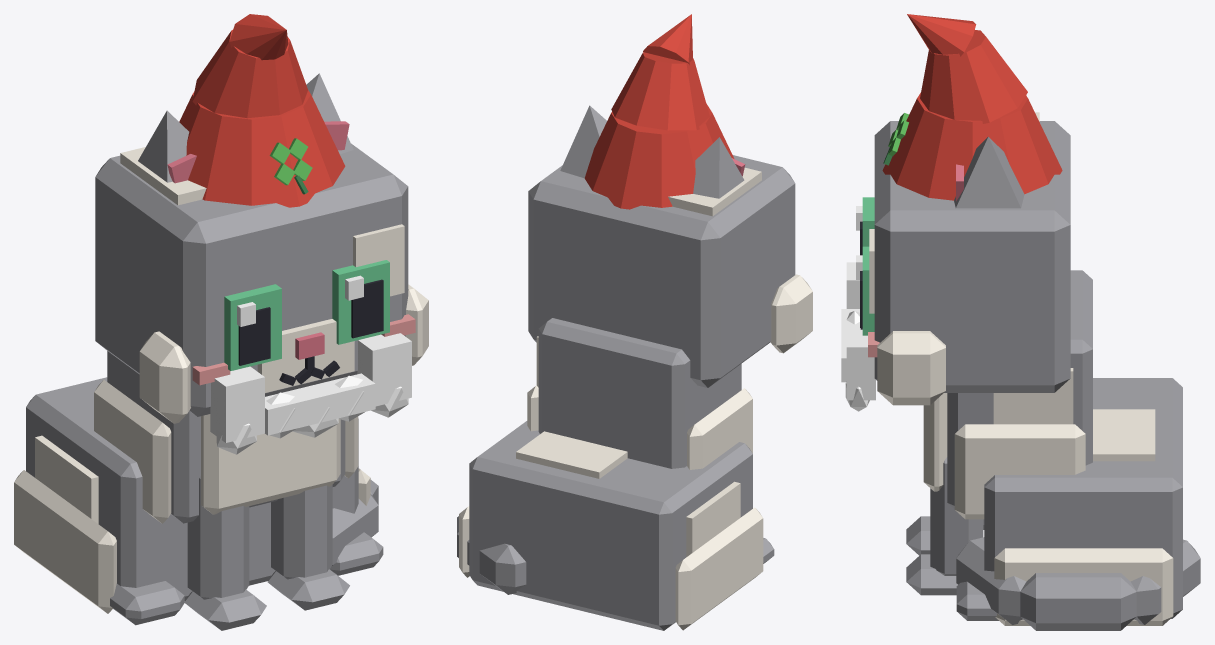
Rendered from CatCafe_Cat_Gnome_Sit.glb.
The picture shows the model from 3 angles, left to right: view 1: azimuth 30°, elevation 25°; view 2: azimuth 150°, elevation 25°; view 3: azimuth 270°, elevation 25°; orthographic projection. The views are drawn at different scales.
Parts seen in each view (by area): view 1: CatCafe_Cat_Gnome_Sit_Head, CatCafe_Cat_Gnome_Sit_Body, CatCafe_Cat_Gnome_Sit_Prop, CatCafe_Cat_Gnome_Sit_Prop2, CatCafe_Cat_Gnome_Sit_LegF2, CatCafe_Cat_Gnome_Sit_LegF1, CatCafe_Cat_Gnome_Sit_Eye2, CatCafe_Cat_Gnome_Sit_Eye1, CatCafe_Cat_Gnome_Sit_EarR, CatCafe_Cat_Gnome_Sit_Tail, CatCafe_Cat_Gnome_Sit_EarL; view 2: CatCafe_Cat_Gnome_Sit_Body, CatCafe_Cat_Gnome_Sit_Head, CatCafe_Cat_Gnome_Sit_Prop, CatCafe_Cat_Gnome_Sit_EarR, CatCafe_Cat_Gnome_Sit_Tail, CatCafe_Cat_Gnome_Sit_EarL; view 3: CatCafe_Cat_Gnome_Sit_Body, CatCafe_Cat_Gnome_Sit_Head, CatCafe_Cat_Gnome_Sit_Prop, CatCafe_Cat_Gnome_Sit_Tail, CatCafe_Cat_Gnome_Sit_LegF1, CatCafe_Cat_Gnome_Sit_EarL, CatCafe_Cat_Gnome_Sit_Prop2, CatCafe_Cat_Gnome_Sit_Eye1, CatCafe_Cat_Gnome_Sit_LegF2, CatCafe_Cat_Gnome_Sit_Eye2.
Part boxes in pixels (x1,y1,x2,y2): CatCafe_Cat_Gnome_Sit_Head: (95,143,428,423); CatCafe_Cat_Gnome_Sit_Body: (14,351,383,625); CatCafe_Cat_Gnome_Sit_Prop: (179,14,345,207); CatCafe_Cat_Gnome_Sit_Prop2: (210,333,411,454); CatCafe_Cat_Gnome_Sit_LegF2: (184,476,266,630); CatCafe_Cat_Gnome_Sit_LegF1: (267,485,349,610); CatCafe_Cat_Gnome_Sit_Eye2: (224,284,281,370); CatCafe_Cat_Gnome_Sit_Eye1: (332,260,389,344); CatCafe_Cat_Gnome_Sit_EarR: (138,110,196,183); CatCafe_Cat_Gnome_Sit_Tail: (332,480,378,565); CatCafe_Cat_Gnome_Sit_EarL: (306,73,353,153); CatCafe_Cat_Gnome_Sit_Body: (459,318,774,630); CatCafe_Cat_Gnome_Sit_Head: (528,155,812,387); CatCafe_Cat_Gnome_Sit_Prop: (584,14,734,209); CatCafe_Cat_Gnome_Sit_EarR: (693,137,745,198); CatCafe_Cat_Gnome_Sit_Tail: (457,516,526,594); CatCafe_Cat_Gnome_Sit_EarL: (560,105,606,178); CatCafe_Cat_Gnome_Sit_Body: (923,270,1182,625); CatCafe_Cat_Gnome_Sit_Head: (860,112,1070,405); CatCafe_Cat_Gnome_Sit_Prop: (882,14,1062,200); CatCafe_Cat_Gnome_Sit_Tail: (956,537,1200,630); CatCafe_Cat_Gnome_Sit_LegF1: (906,457,983,595); CatCafe_Cat_Gnome_Sit_EarL: (954,136,1024,208); CatCafe_Cat_Gnome_Sit_Prop2: (841,262,875,411); CatCafe_Cat_Gnome_Sit_Eye1: (856,246,874,335); CatCafe_Cat_Gnome_Sit_LegF2: (906,516,930,555); CatCafe_Cat_Gnome_Sit_Eye2: (856,197,874,255).
Size of the model in its own units: 1.15 by 2.2 by 1.29.
Materials: 1 (1 with a texture image).
